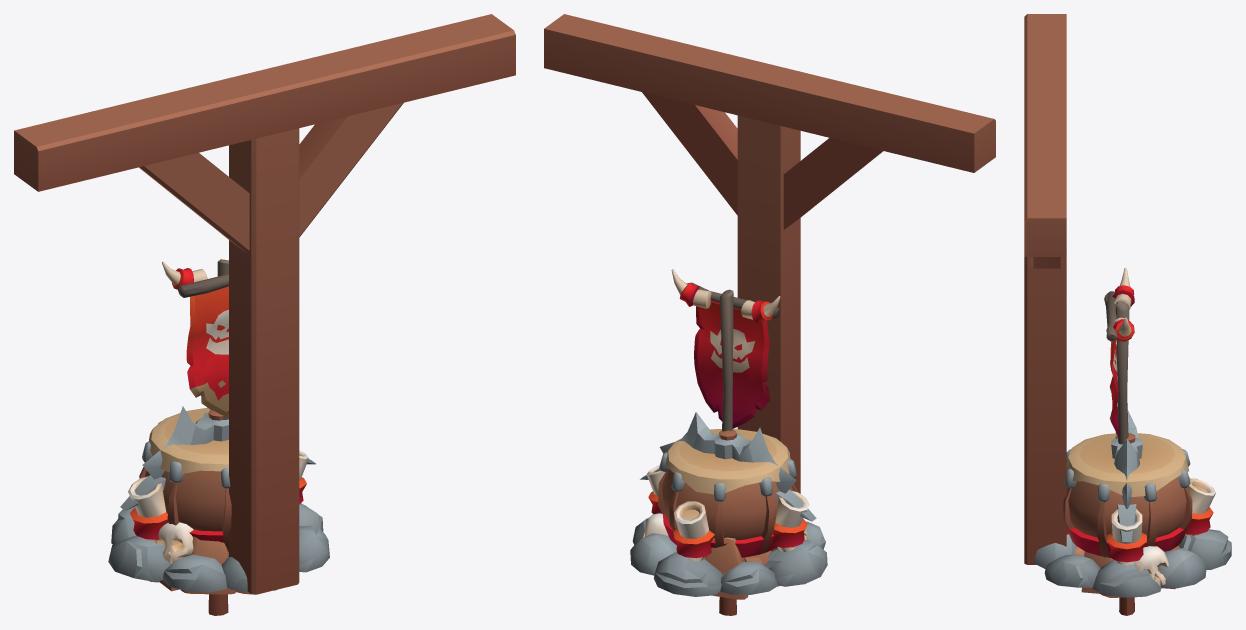
The model's file is mine.glb.
3 renders of one model, left to right at view 1: azimuth 30°, elevation 25°; view 2: azimuth 150°, elevation 25°; view 3: azimuth 270°, elevation 25°, orthographic. The views are drawn at different scales.
Parts seen in each view (by area): view 1: scaffold_pillar_wall, scaffold_beam_wall, Orc_Wardrum, Orc_Banner, Campfire_Base, Orc_Axe, dungeon_pickaxe; view 2: scaffold_beam_wall, scaffold_pillar_wall, Orc_Wardrum, Orc_Banner, Campfire_Base, Orc_Axe, dungeon_pickaxe; view 3: Orc_Wardrum, scaffold_pillar_wall, scaffold_beam_wall, Campfire_Base, Orc_Banner, Orc_Axe, dungeon_pickaxe.
Part boxes in pixels (x1,y1,x2,y2): scaffold_pillar_wall: (139, 102, 403, 594); scaffold_beam_wall: (14, 14, 515, 191); Orc_Wardrum: (128, 407, 308, 551); Orc_Banner: (149, 259, 251, 594); Campfire_Base: (108, 503, 329, 592); Orc_Axe: (142, 406, 228, 479); dungeon_pickaxe: (120, 454, 315, 615); scaffold_beam_wall: (544, 14, 995, 172); scaffold_pillar_wall: (642, 92, 883, 493); Orc_Wardrum: (646, 429, 809, 561); Orc_Banner: (641, 269, 807, 599); Campfire_Base: (630, 518, 827, 596); Orc_Axe: (659, 412, 796, 493); dungeon_pickaxe: (640, 468, 816, 615); Orc_Wardrum: (1063, 433, 1215, 565); scaffold_pillar_wall: (1024, 257, 1066, 564); scaffold_beam_wall: (1024, 14, 1066, 256); Campfire_Base: (1035, 529, 1231, 597); Orc_Banner: (1074, 267, 1185, 597); Orc_Axe: (1111, 410, 1142, 508); dungeon_pickaxe: (1117, 504, 1136, 615).
Bounding box in the file's own units: 4 × 4.54 × 1.72.
Materials: 4 (4 with a texture image).
